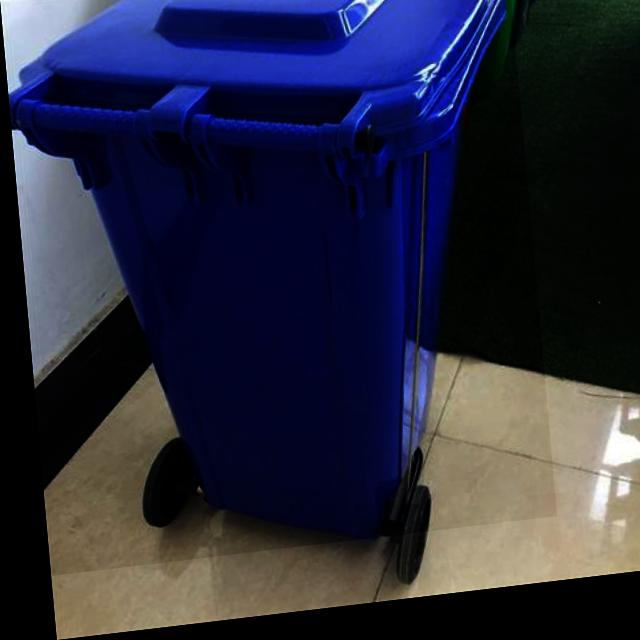garbage_bin: (0, 0, 546, 576)
